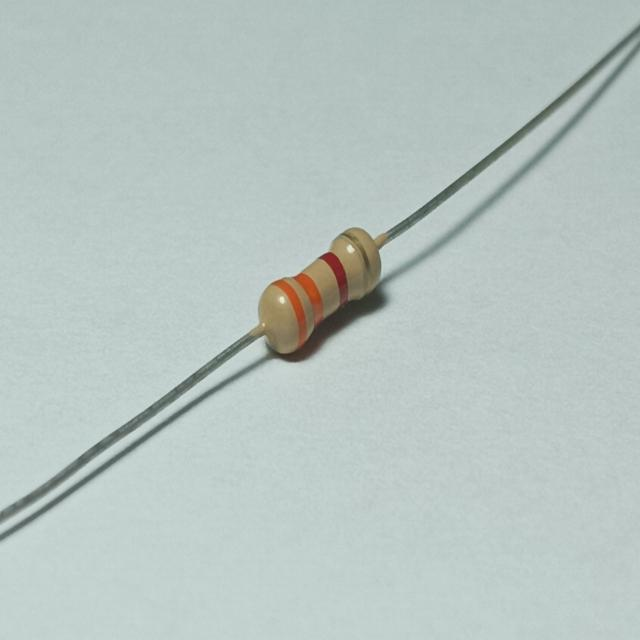3.3k ohms: (234, 223, 403, 377)
